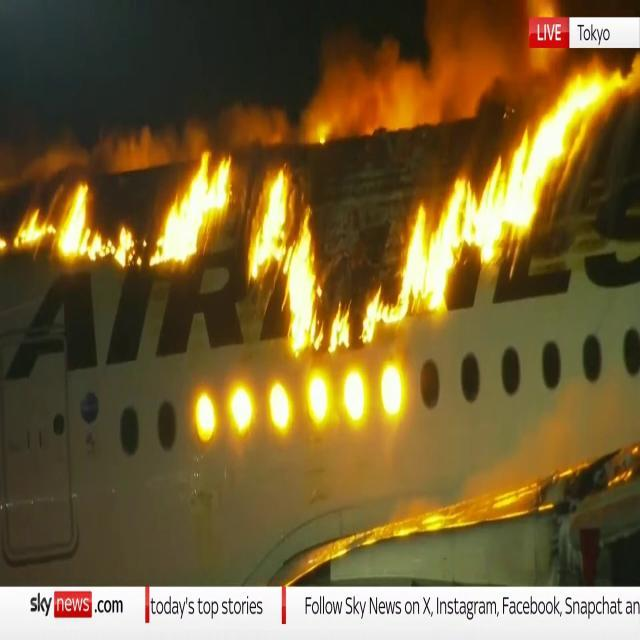Fire: (396, 72, 598, 313), (248, 161, 330, 357), (6, 173, 130, 264), (150, 141, 234, 269), (322, 274, 412, 360)
Smoke: (296, 0, 536, 155)
